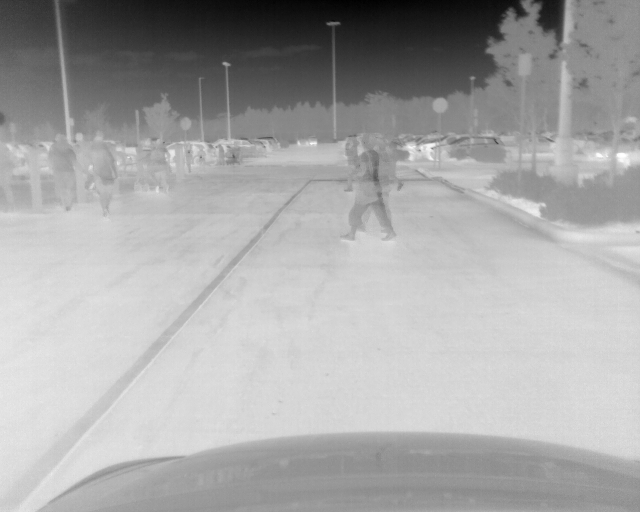car: (429, 137, 502, 160), (164, 140, 210, 164), (518, 136, 555, 153), (227, 139, 259, 155), (296, 134, 319, 146), (184, 142, 192, 174), (197, 147, 206, 172), (260, 138, 275, 152), (255, 140, 265, 157), (218, 144, 225, 165)
people: (337, 134, 394, 241), (372, 136, 399, 242), (84, 136, 115, 219), (50, 137, 82, 212), (385, 133, 407, 189), (149, 143, 169, 196), (1, 140, 15, 212), (344, 134, 358, 191)
